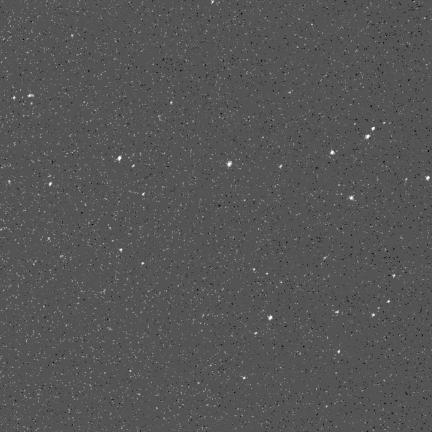blob: (117, 156, 121, 161), (331, 150, 335, 154), (268, 316, 272, 320)
